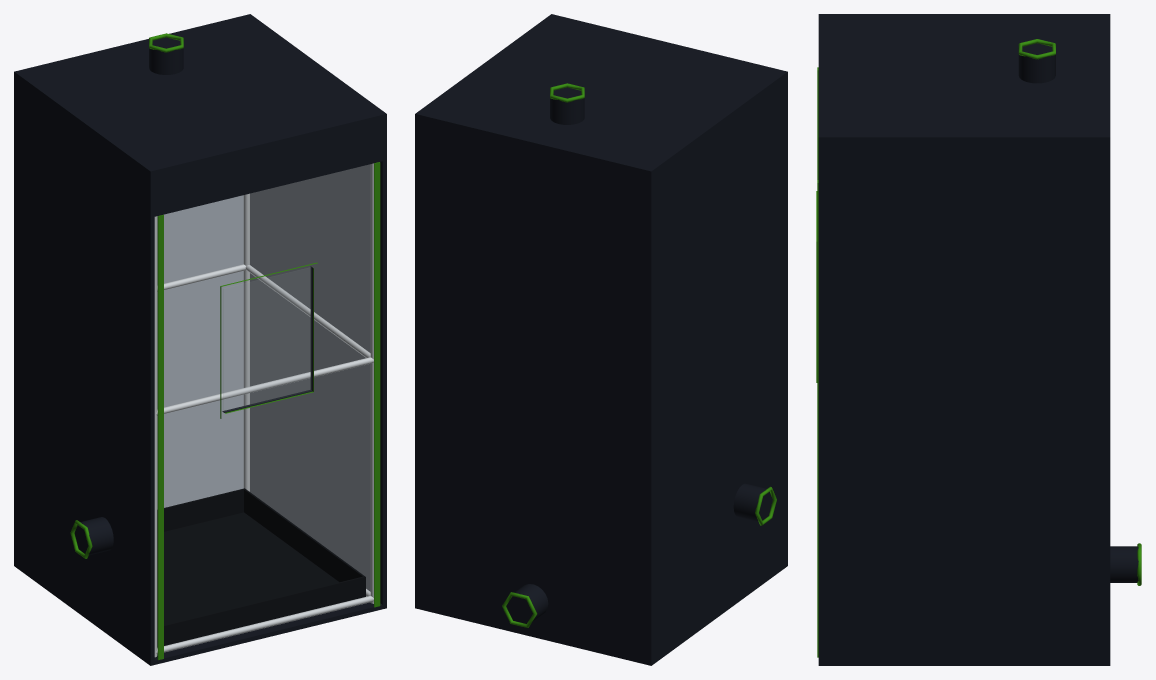
Rendered from grow-tent--80x80x160.glb.
3 views of the same model, side by side, from view 1: azimuth 30°, elevation 25°; view 2: azimuth 150°, elevation 25°; view 3: azimuth 270°, elevation 25° (orthographic). The views are drawn at different scales.
Parts seen in each view (by area): view 1: panel_side_left, lining_right, panel_top, lining_back, floor_tray, panel_upper_front, tray_lip_front, panel_side_right, zip_door_1, zip_door_2, panel_bottom, tray_lip_right (+12 smaller); view 2: panel_back, panel_side_left, panel_top, panel_side_right, panel_bottom, vent_port_roof_1_sleeve, vent_port_side_left_1_sleeve, cable_port_1_sleeve; view 3: panel_side_right, panel_top, panel_bottom, cable_port_1_sleeve, vent_port_roof_1_sleeve, zip_door_2.
Boxes of the visible parts, x1,y1,x2,y2 form: panel_side_left: [14, 76, 154, 661]; lining_right: [250, 164, 370, 591]; panel_top: [14, 14, 386, 175]; lining_back: [157, 195, 243, 509]; floor_tray: [157, 512, 338, 626]; panel_upper_front: [154, 119, 382, 216]; tray_lip_front: [157, 576, 365, 647]; panel_side_right: [380, 118, 386, 604]; zip_door_1: [157, 214, 163, 660]; zip_door_2: [374, 162, 380, 607]; panel_bottom: [14, 562, 386, 665]; tray_lip_right: [244, 489, 364, 582]; panel_back: [419, 119, 647, 660]; panel_side_left: [647, 76, 787, 661]; panel_top: [415, 14, 787, 175]; panel_side_right: [415, 118, 419, 604]; panel_bottom: [415, 562, 787, 665]; vent_port_roof_1_sleeve: [550, 98, 584, 124]; vent_port_side_left_1_sleeve: [733, 483, 766, 521]; cable_port_1_sleeve: [514, 584, 548, 621]; panel_side_right: [818, 142, 1110, 661]; panel_top: [818, 14, 1110, 141]; panel_bottom: [818, 661, 1110, 665]; cable_port_1_sleeve: [1110, 546, 1138, 582]; vent_port_roof_1_sleeve: [1018, 54, 1055, 83]; zip_door_2: [817, 180, 818, 657].
Bounding box in the file's own units: 0.886 × 1.69 × 0.892.
